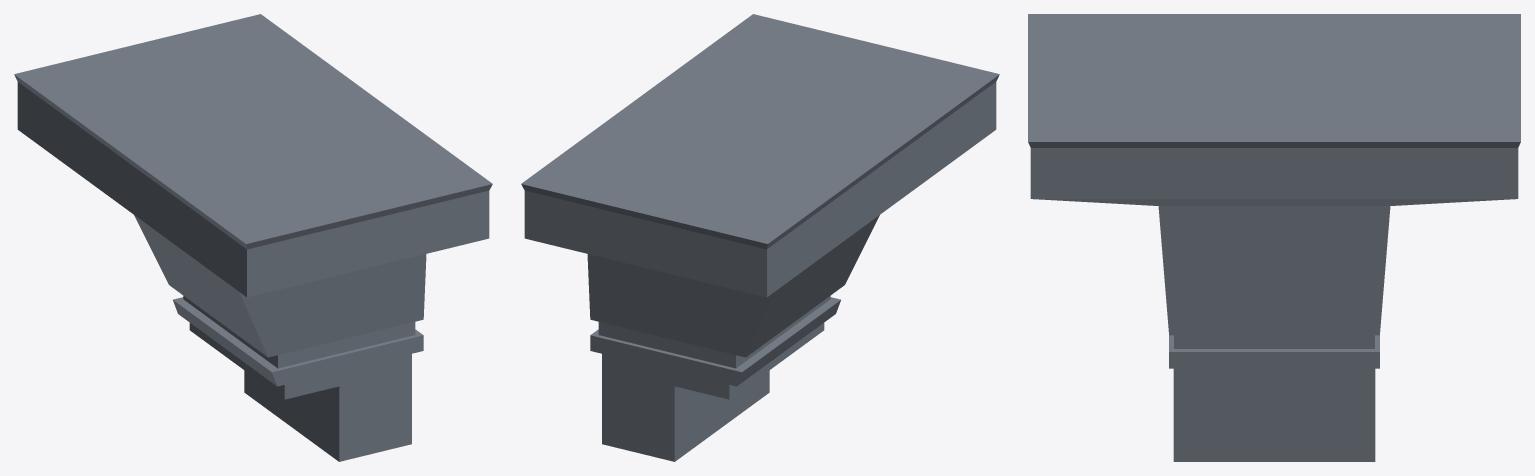
The model's file is other_001_cutter-machine.fbx.
3 renders of one model, left to right at view 1: azimuth 30°, elevation 25°; view 2: azimuth 150°, elevation 25°; view 3: azimuth 270°, elevation 25°, orthographic. The views are drawn at different scales.
Visible parts, largest first — view 1: other.001.cutter-machine; view 2: other.001.cutter-machine; view 3: other.001.cutter-machine.
Part boxes in pixels (x1,y1,x2,y2): other.001.cutter-machine: [14, 14, 492, 461]; other.001.cutter-machine: [521, 14, 999, 461]; other.001.cutter-machine: [1028, 14, 1520, 461].
Bounding box in the file's own units: 0.2867 × 0.3414 × 0.4672.
